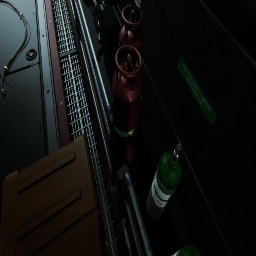0: (146, 143, 181, 221), (171, 245, 202, 256)
NitrogenTank ,: (112, 45, 143, 180), (119, 5, 144, 75)
